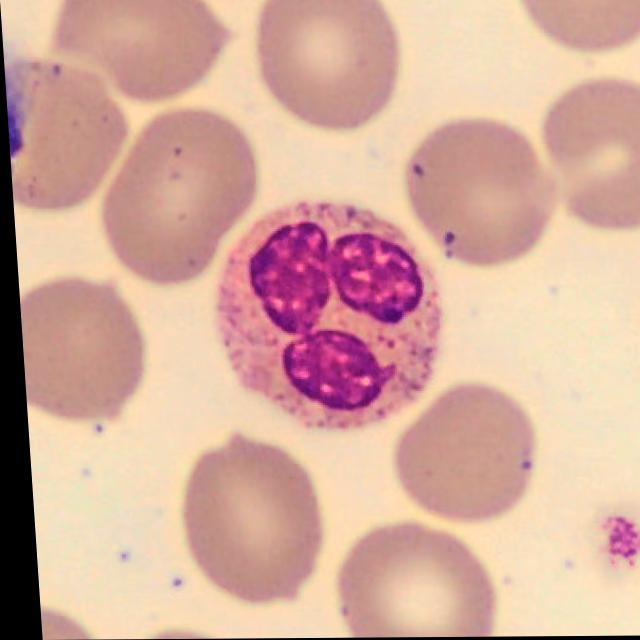Neutrofilo segmentado: (216, 204, 435, 427)
